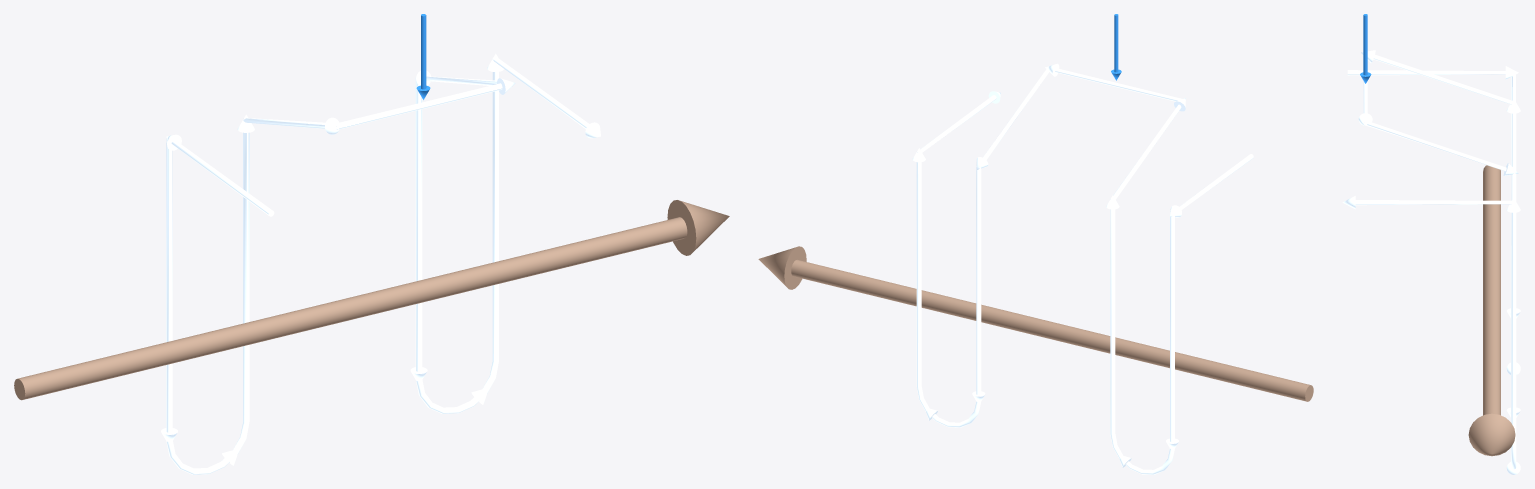
File: superheater_flow.glb
3 renders of one model, left to right at view 1: azimuth 30°, elevation 25°; view 2: azimuth 150°, elevation 25°; view 3: azimuth 270°, elevation 25°, orthographic. The views are drawn at different scales.
Parts seen in each view (by area): view 1: flue_gas, steam; view 2: flue_gas, steam; view 3: steam, flue_gas, spray_water.
Boxes of the visible parts, x1=… form: flue_gas: x1=14, y1=200, x2=729, y2=400; steam: x1=161, y1=53, x2=600, y2=474; flue_gas: x1=758, y1=246, x2=1313, y2=401; steam: x1=912, y1=63, x2=1253, y2=474; steam: x1=1342, y1=50, x2=1520, y2=474; flue_gas: x1=1468, y1=165, x2=1515, y2=456; spray_water: x1=1360, y1=14, x2=1371, y2=83.
Size of the model in its own units: 3.7 by 2.47 by 0.989.
